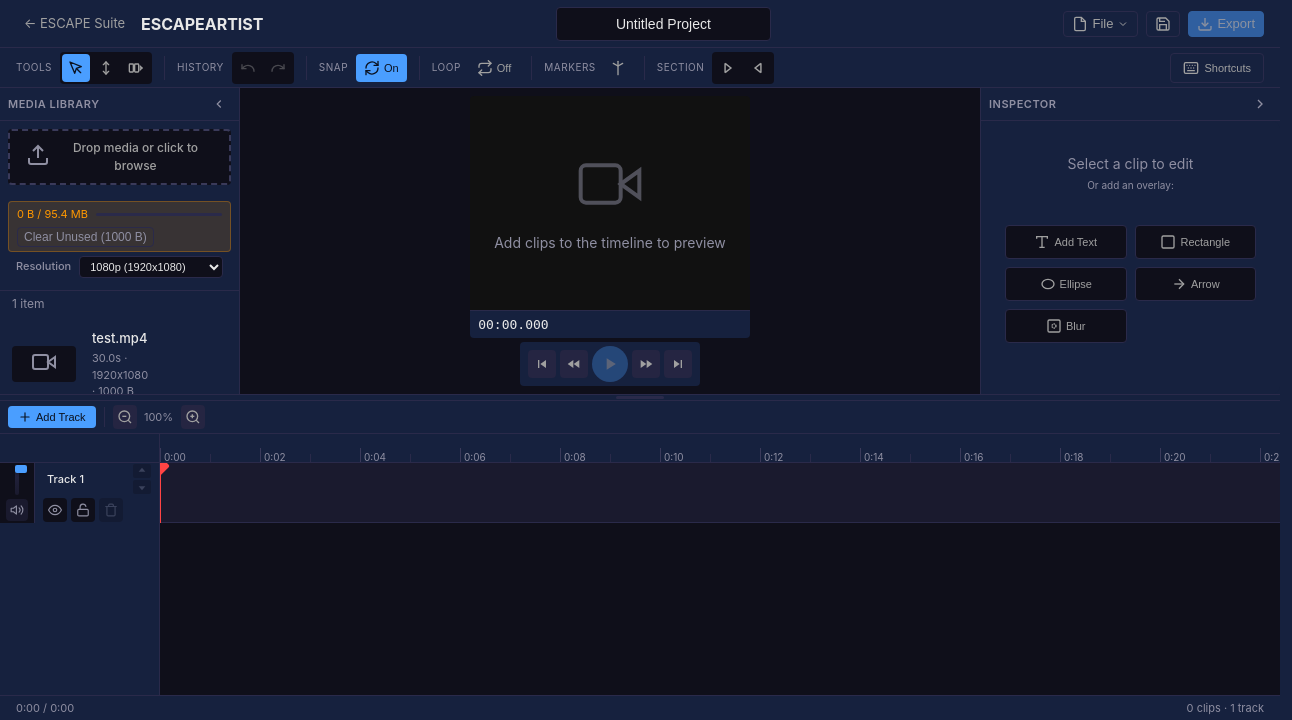
App project lifecycle › saving › saves from the quick action button
What coordinates should you click on to do the following:
click the button named "Save project"
I would click on:
 (1163, 24)
Its box is top-left (1146, 10), bottom-right (1180, 36).
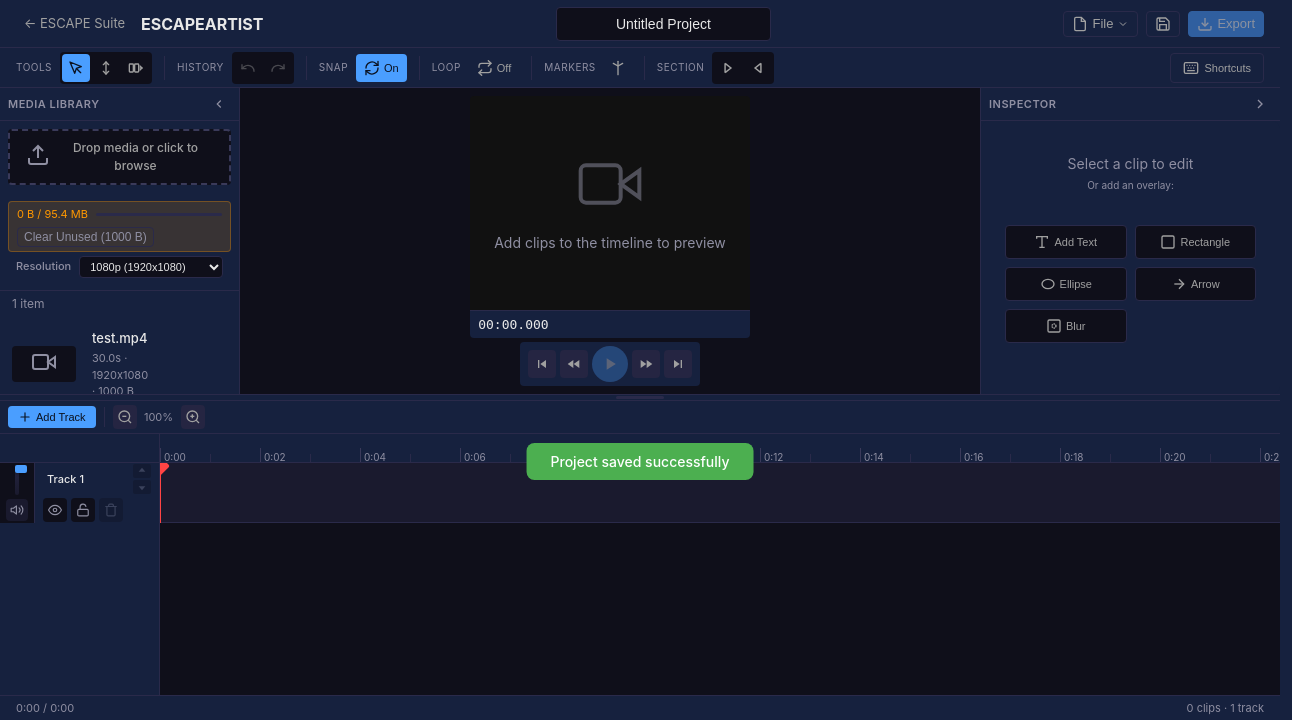
Expected: the message reads "Project saved successfully", top-left (550, 453), bottom-right (729, 470)
